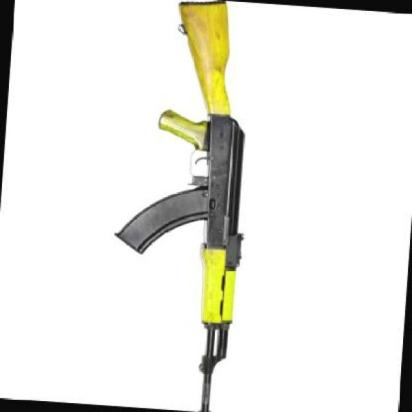Gun: (99, 0, 290, 412)
